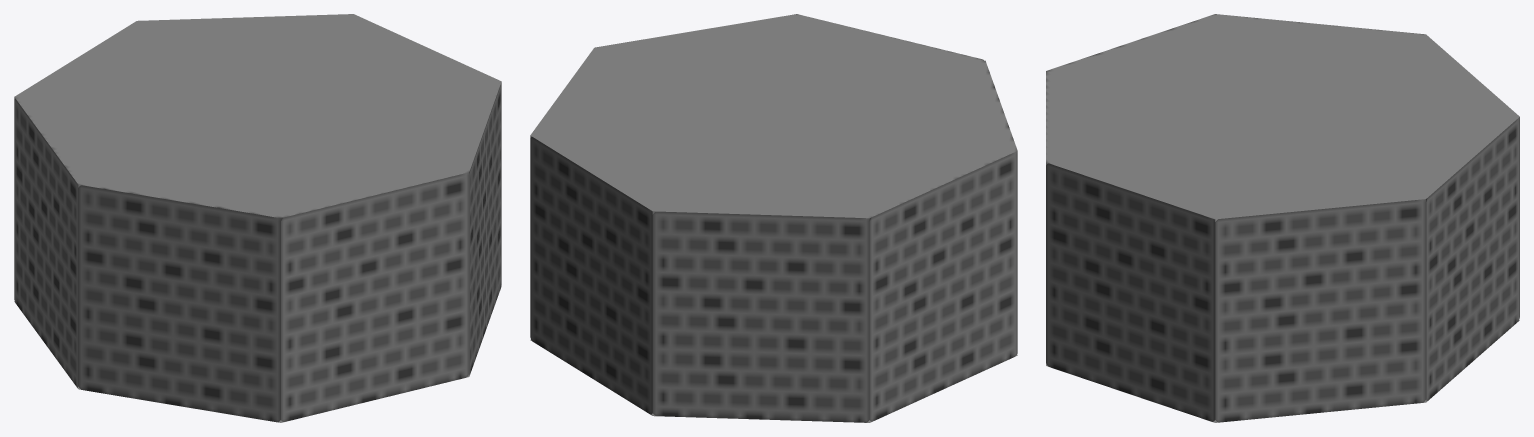
File: Tower_Base.fbx
The picture shows the model from 3 angles, left to right: view 1: azimuth 30°, elevation 25°; view 2: azimuth 150°, elevation 25°; view 3: azimuth 270°, elevation 25°; orthographic projection.
Visible parts, largest first — view 1: cylinder; view 2: cylinder; view 3: cylinder.
Part boxes in pixels (bbox=[...]): cylinder: bbox=[14, 14, 501, 422]; cylinder: bbox=[530, 14, 1017, 422]; cylinder: bbox=[1046, 14, 1519, 422].
Bounding box in the file's own units: 433 × 200 × 422.
Materials: 1 (1 with a texture image).
